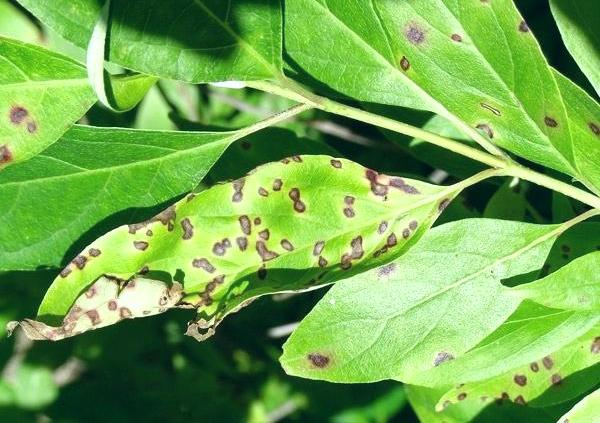Tomato leaf bacterial spot: (17, 145, 467, 359), (264, 218, 551, 397)
